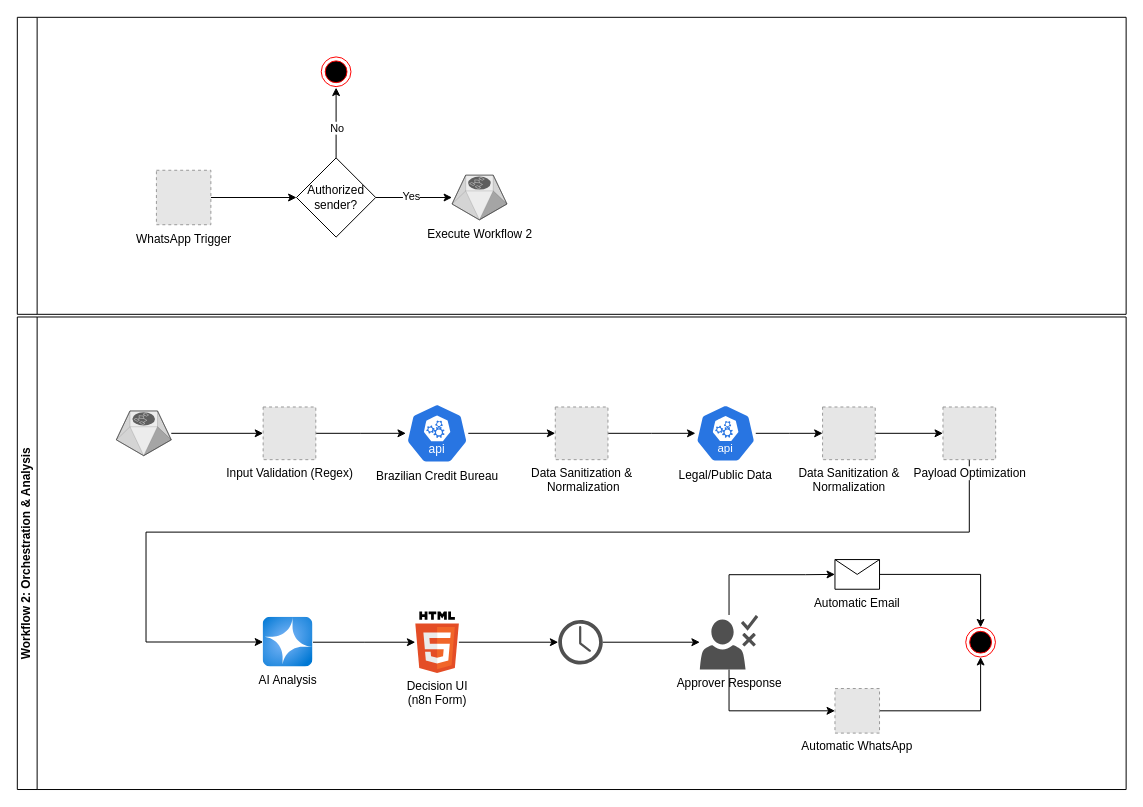
Some shapes in this 1143 by 807 pixel diagram are drawn without their labels. Grey dashed boxes stand in for pictures. Each missing label, with the box of its shape:
Async Wait: (558, 619, 602, 664)
When Executed by Another Workflow: (115, 410, 171, 456)
Workflow 1: Ingestion & Auth: (16, 16, 1126, 314)
